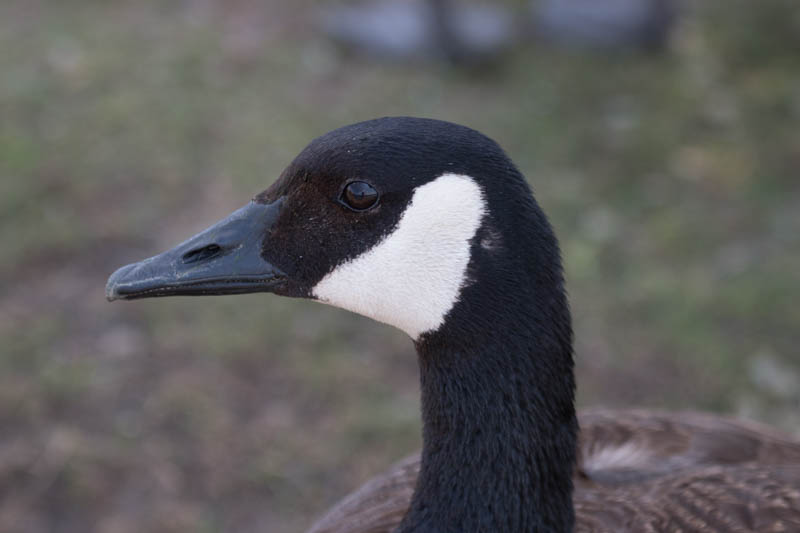goose-head: (104, 117, 572, 346)
